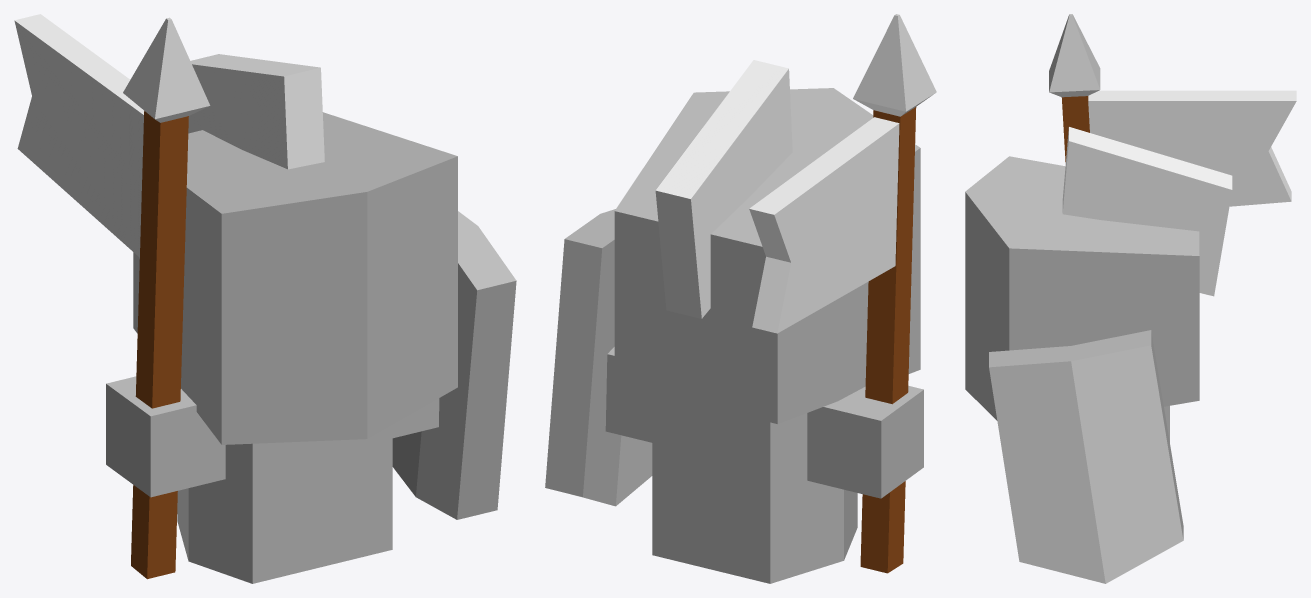
The model's file is unit.glb.
The picture shows the model from 3 angles, left to right: view 1: azimuth 30°, elevation 25°; view 2: azimuth 150°, elevation 25°; view 3: azimuth 270°, elevation 25°; orthographic projection. The views are drawn at different scales.
Parts seen in each view (by area): view 1: Cube; view 2: Cube; view 3: Cube.
Part boxes in pixels (x1,y1,x2,y2): Cube: (14,14,516,583); Cube: (545,14,936,583); Cube: (965,14,1296,583).
Bounding box in the file's own units: 1.43 × 2.28 × 1.52.
Materials: 2 (1 with a texture image).
